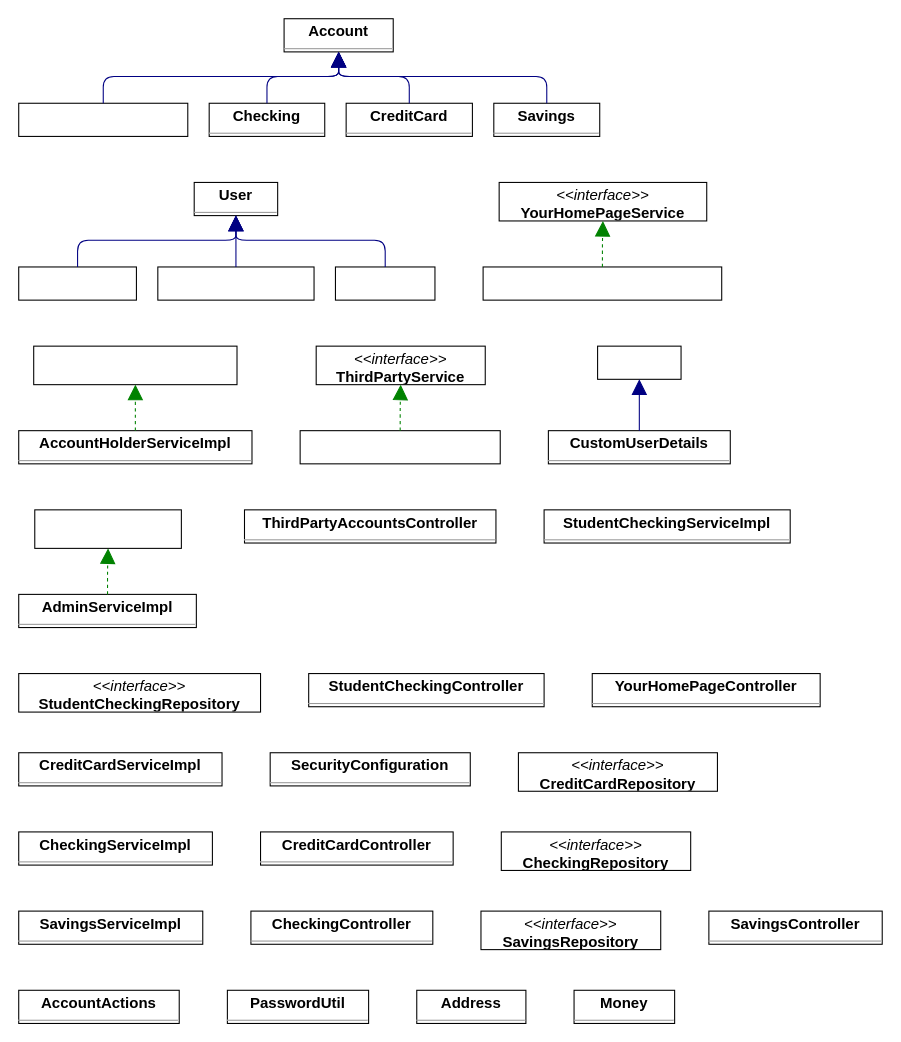
The diagram is 901 pixels wide and 1042 high, and some of its shapes have lost their labels. Here are the shapes that lost their labels. From the top down, the centre of each, then its label:
At (x=103, y=119): "StudentChecking".
At (x=77, y=283): "ThirdParty".
At (x=235, y=283): "AccountHolder".
At (x=384, y=283): "Admin".
At (x=602, y=283): "YourHomePageServiceImpl".
At (x=135, y=365): "<<interface>> AccountHolderService".
At (x=639, y=362): "Role".
At (x=399, y=447): "ThirdPartyServiceImpl".
At (x=107, y=528): "<<interface>> AdminService".
